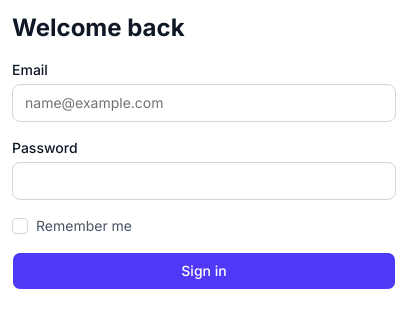
it: LoginForm › shows a validation error for a malformed email
Type "not-an-email" into the field labelled "Email".
click(204, 103); type("not-an-email")  # box [12, 84, 396, 122]
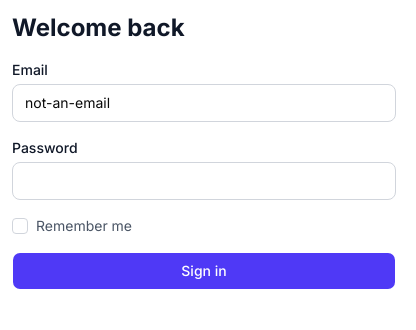
Type "password123" into the password field labelled "Password".
click(204, 181); type("password123")  # box [12, 162, 396, 200]
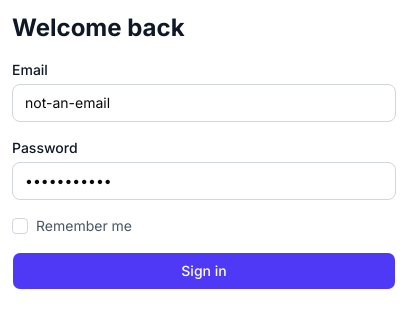
Click the button "Sign in".
click(204, 271)  # box [12, 252, 396, 290]
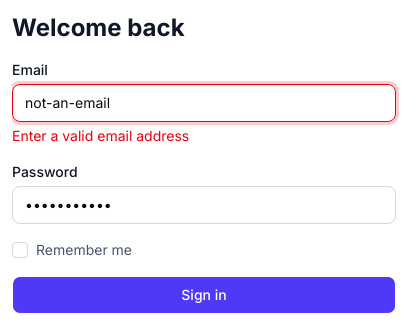
Now the text "Enter a valid email address" is shown, box [12, 127, 189, 144]
